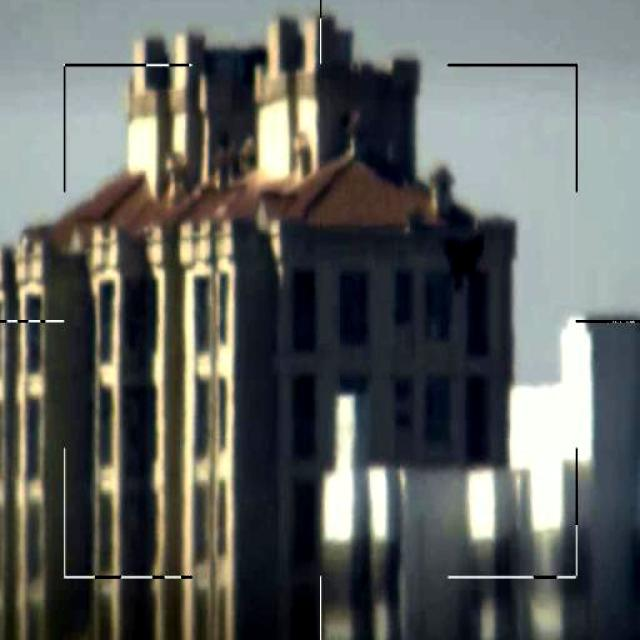bird: (440, 229, 486, 292)
